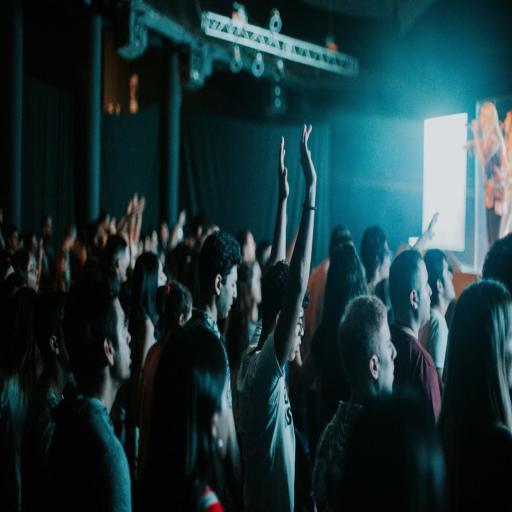face: (376, 319, 396, 393), (114, 299, 130, 381), (218, 267, 237, 319), (417, 260, 431, 326), (288, 308, 304, 361), (443, 260, 455, 302), (378, 241, 391, 279), (251, 261, 262, 305), (118, 246, 130, 282), (28, 254, 38, 291), (243, 233, 255, 261)
